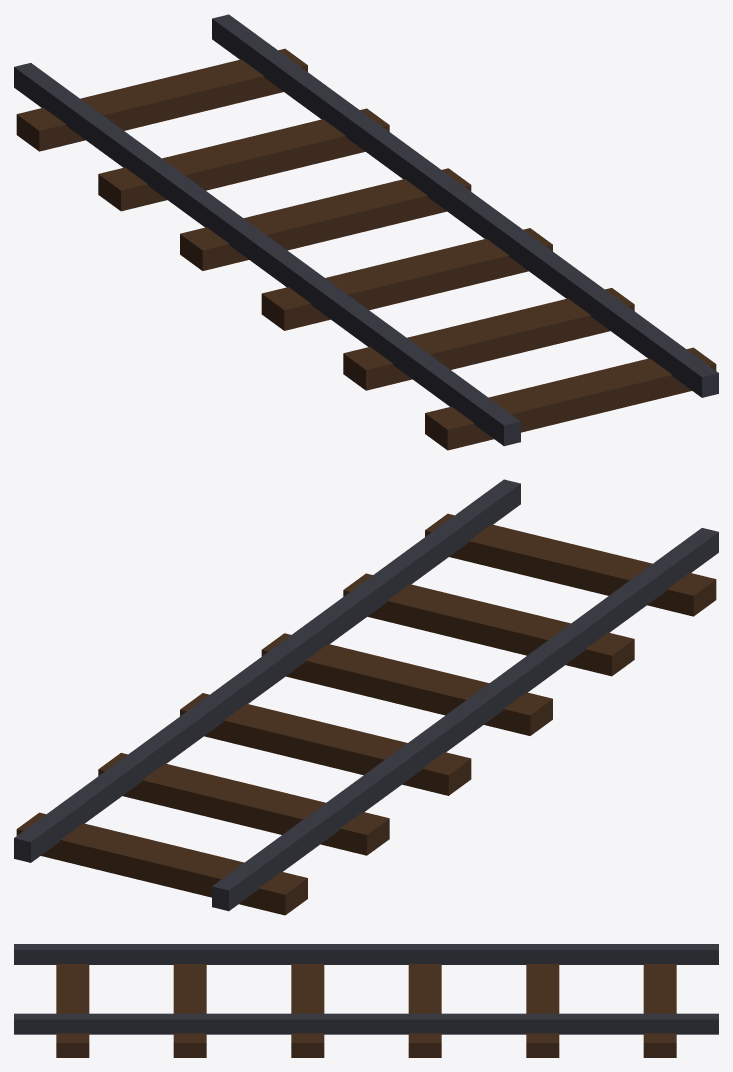
File: soegol_rail.glb
3 views of the same model, one above another, from view 1: azimuth 30°, elevation 25°; view 2: azimuth 150°, elevation 25°; view 3: azimuth 270°, elevation 25° (orthographic). The views are drawn at different scales.
Visible parts, largest first — view 1: soegol_rail; view 2: soegol_rail; view 3: soegol_rail.
Boxes of the visible parts, x1,y1,x2,y2 form: soegol_rail: (14,14,718,450); soegol_rail: (14,479,718,915); soegol_rail: (14,944,718,1057).
Size of the model in its own units: 0.95 by 0.135 by 3.
